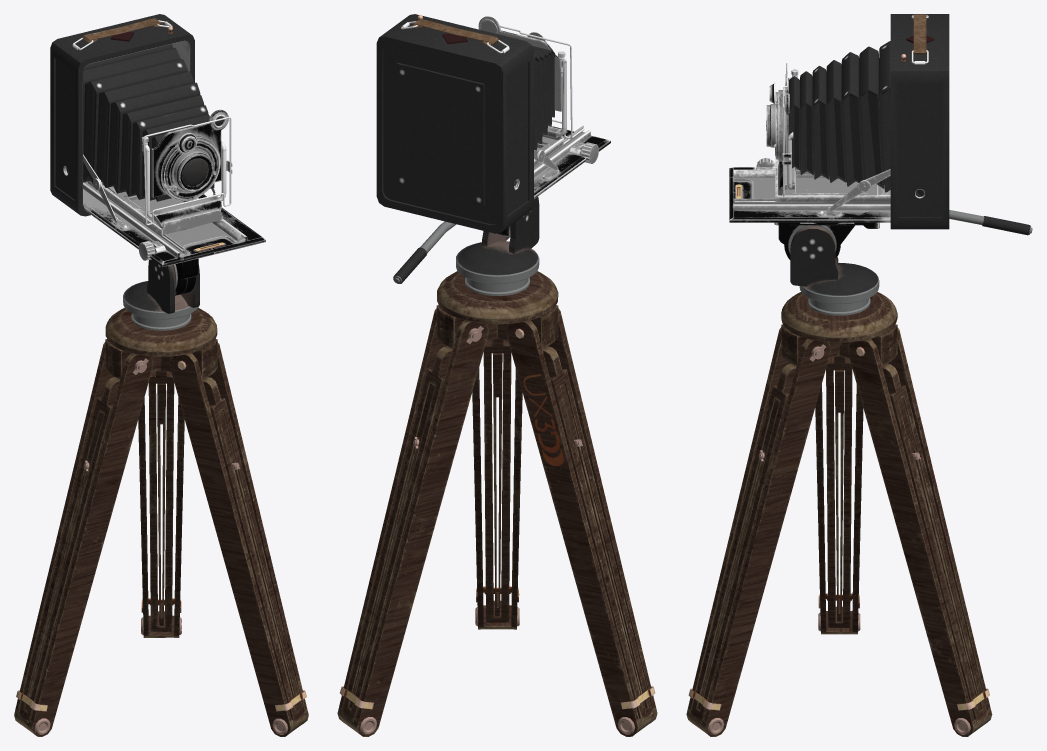
The model's file is AntiqueCamera.gltf.
3 renders of one model, left to right at view 1: azimuth 30°, elevation 25°; view 2: azimuth 150°, elevation 25°; view 3: azimuth 270°, elevation 25°, orthographic. The views are drawn at different scales.
Visible parts, largest first — view 1: tripod, camera; view 2: tripod, camera; view 3: tripod, camera.
Boxes of the visible parts, bbox=[...] form: tripod: bbox=[14, 258, 308, 736]; camera: bbox=[50, 14, 265, 266]; tripod: bbox=[337, 196, 657, 736]; camera: bbox=[376, 14, 610, 233]; tripod: bbox=[686, 210, 1032, 736]; camera: bbox=[729, 14, 949, 229].
Size of the model in its own units: 2.6 by 7.21 by 3.39.
2 materials, 2 textured.
